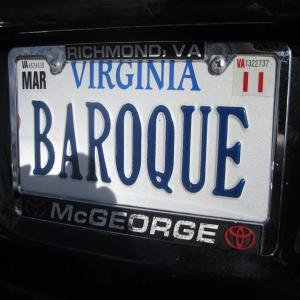Vehicle-registration-plate: (13, 42, 292, 266)
